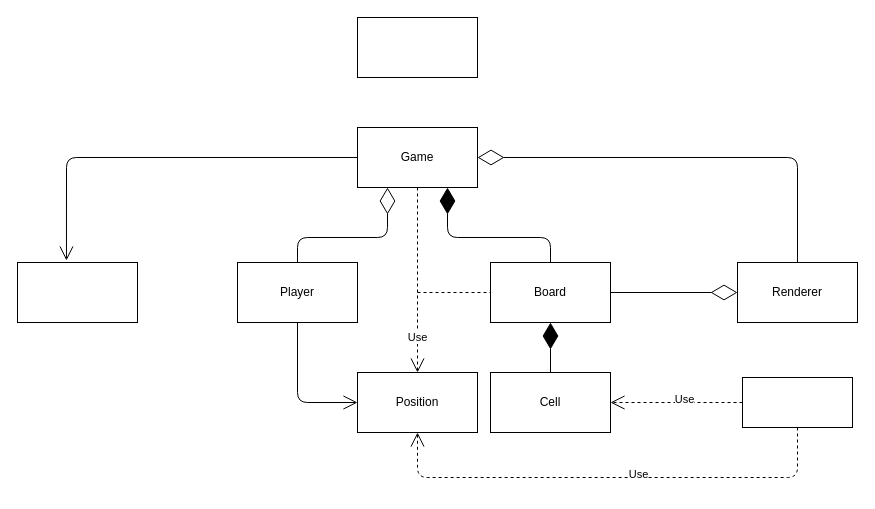
The diagram is 875 pixels wide and 509 high, and some of its shapes have lost their labels. Here are the shapes that lost their labels. From the top down, the centre of each, then its label:
At [417,47]: "Program".
At [77,292]: "WinChecker".
At [797,402]: "Portal".
